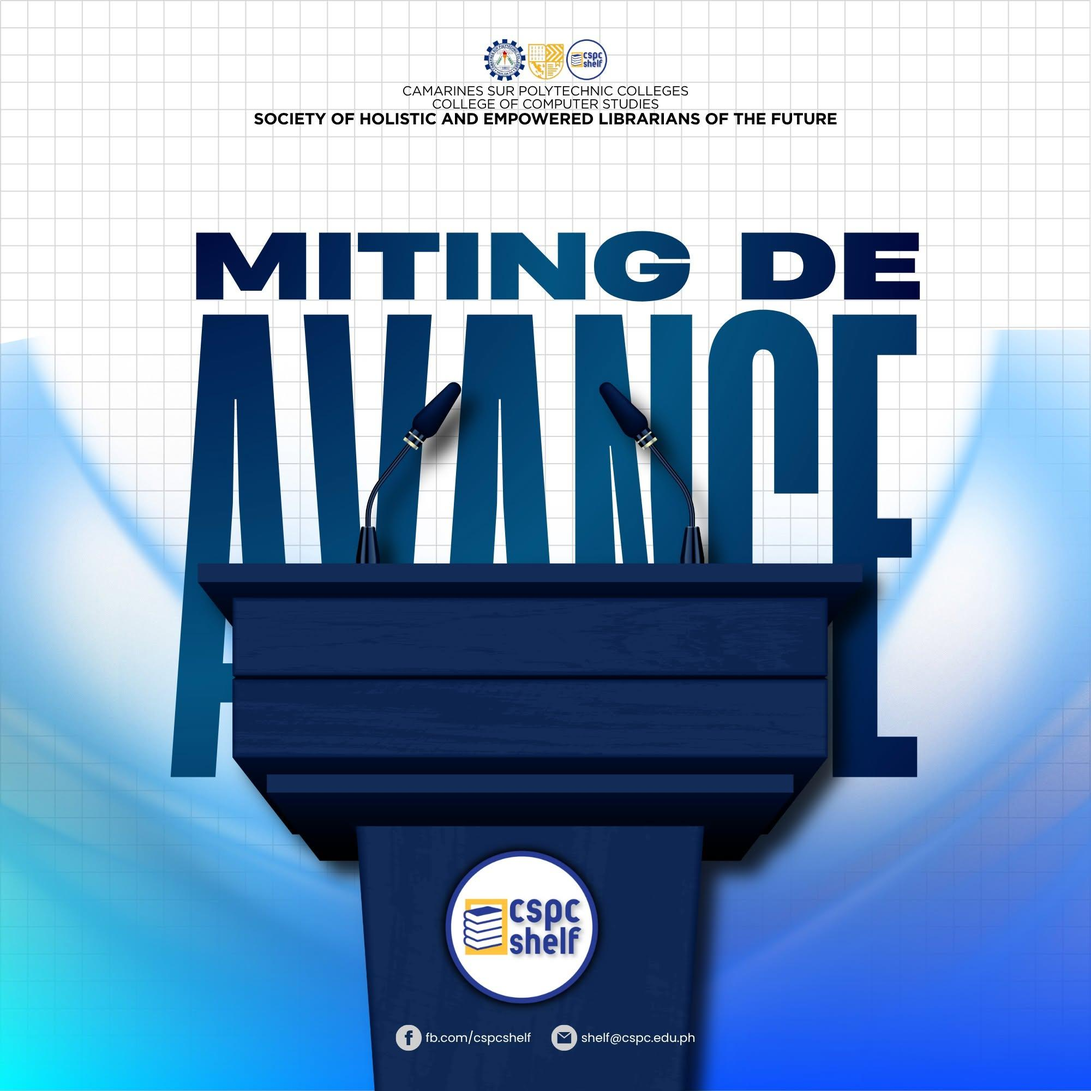embellishment: (198, 376, 863, 1088), (395, 1021, 424, 1052), (549, 1022, 578, 1052)
logo: (450, 852, 595, 1001), (482, 36, 527, 84), (566, 35, 610, 83), (524, 36, 568, 81)
text: (165, 213, 942, 789), (250, 82, 844, 131), (582, 1029, 699, 1046), (425, 1029, 535, 1045)
